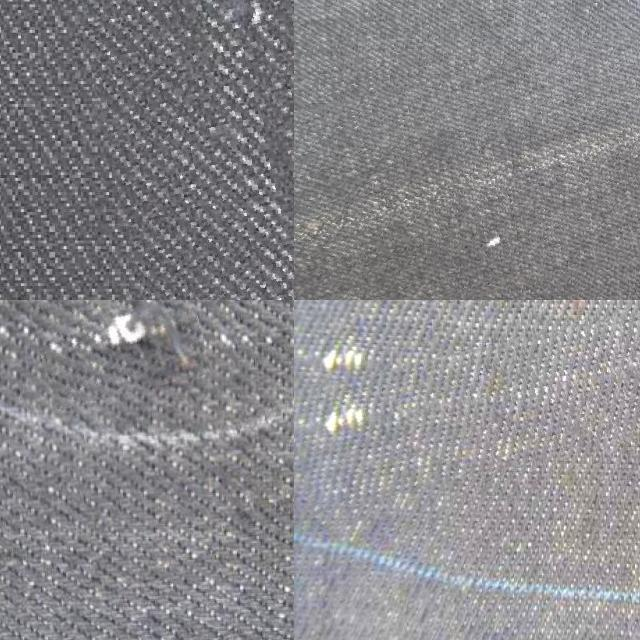Thread_other: (294, 25, 640, 300), (71, 0, 294, 300), (294, 300, 640, 479), (31, 300, 205, 402)
